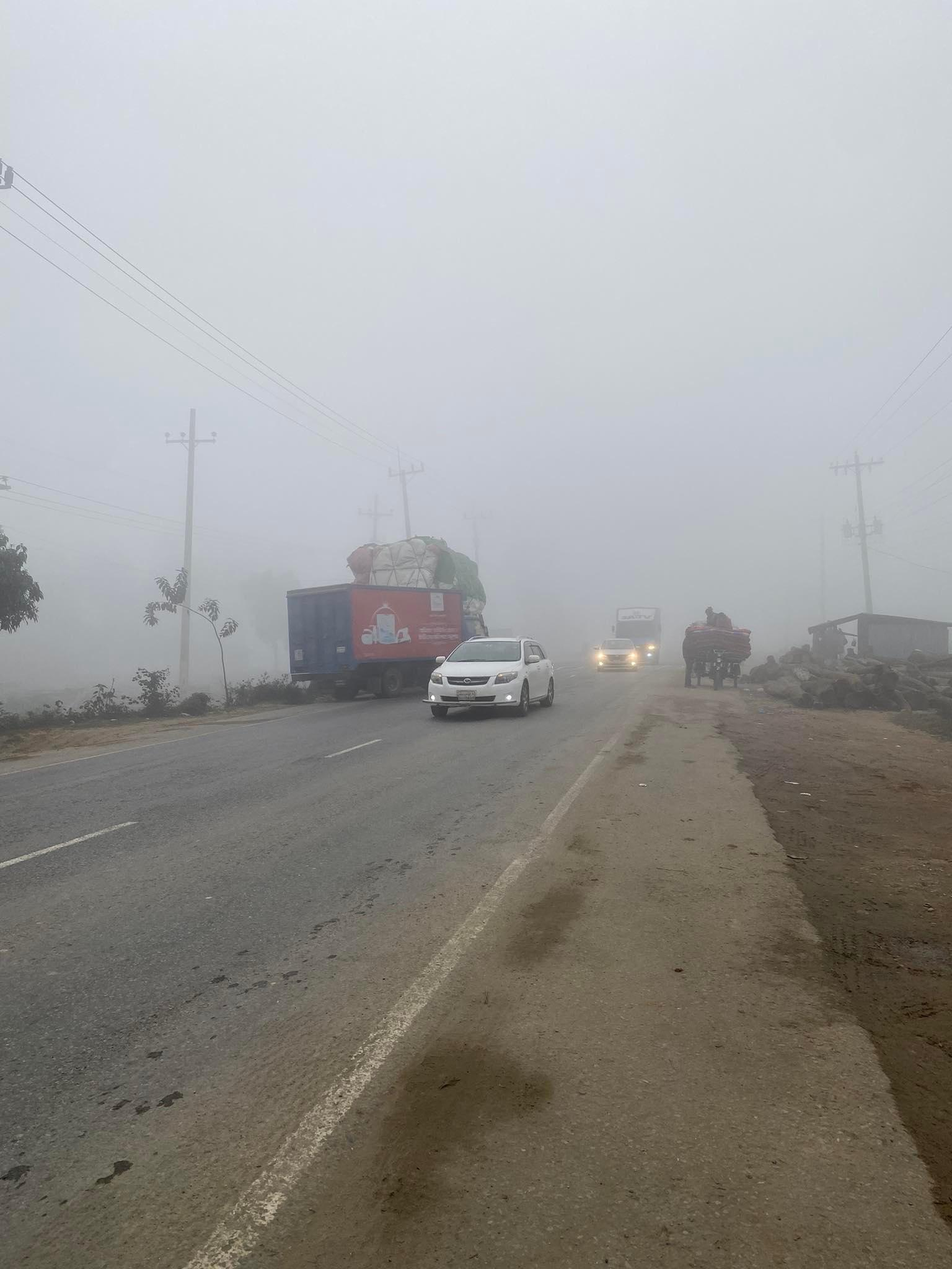Car: (423, 629, 564, 724), (586, 634, 640, 672)
Truck: (273, 568, 511, 690), (606, 599, 668, 666)
